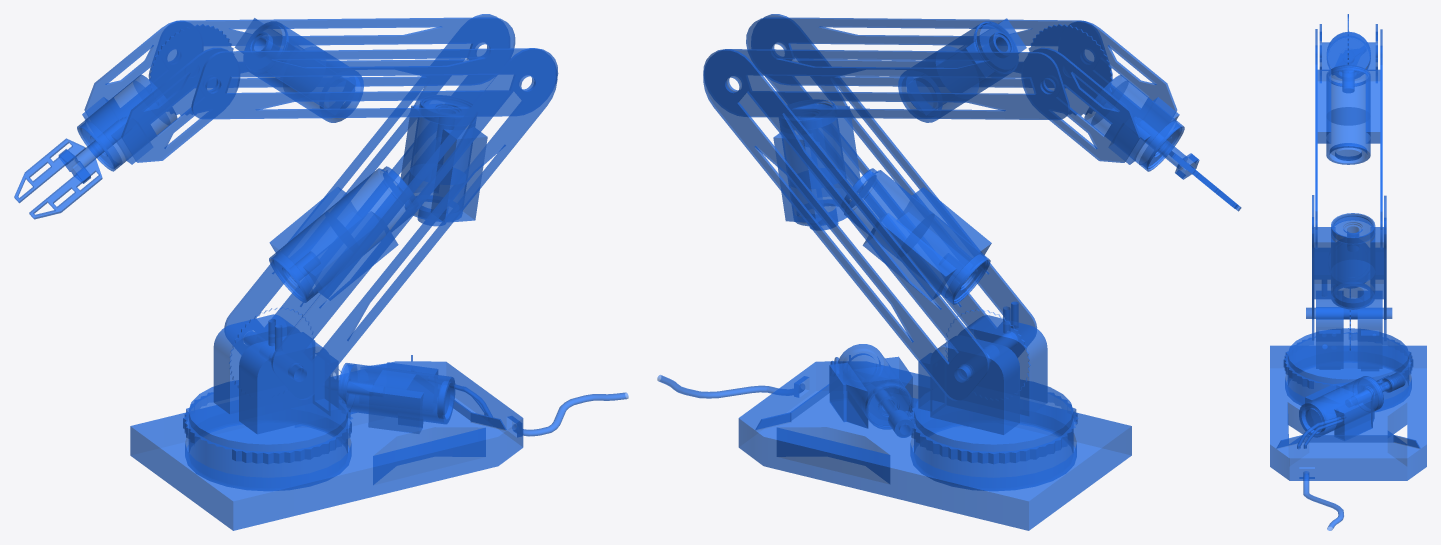
The model's file is dev.obj.
3 renders of one model, left to right at view 1: azimuth 30°, elevation 25°; view 2: azimuth 150°, elevation 25°; view 3: azimuth 270°, elevation 25°, orthographic. The views are drawn at different scales.
Visible parts, largest first — view 1: Bovenarm_001, Voet_001, Onderarm_001, Draaivoet_001, Component_1_001, Layer0_001, Component_5_001, Component_3_001, Component_2_001, Component_4_001; view 2: Bovenarm_001, Voet_001, Onderarm_001, Draaivoet_001, Component_1_001, Layer0_001, Component_5_001, Component_4_001; view 3: Voet_001, Draaivoet_001, Onderarm_001, Bovenarm_001, Layer0_001, Component_1_001.
Boxes of the visible parts, left/top/right/bottom form: Bovenarm_001: left=224, top=14, right=557, bottom=399; Voet_001: left=130, top=355, right=628, bottom=530; Onderarm_001: left=148, top=17, right=558, bottom=122; Draaivoet_001: left=183, top=307, right=352, bottom=464; Component_1_001: left=77, top=20, right=240, bottom=171; Layer0_001: left=130, top=404, right=351, bottom=530; Component_5_001: left=149, top=24, right=233, bottom=115; Component_3_001: left=29, top=158, right=102, bottom=219; Component_2_001: left=14, top=138, right=85, bottom=203; Component_4_001: left=58, top=116, right=127, bottom=183; Bovenarm_001: left=703, top=14, right=1037, bottom=401; Voet_001: left=657, top=344, right=1131, bottom=530; Onderarm_001: left=703, top=17, right=1112, bottom=122; Draaivoet_001: left=888, top=301, right=1078, bottom=464; Component_1_001: left=1021, top=21, right=1184, bottom=171; Layer0_001: left=910, top=404, right=1131, bottom=530; Component_5_001: left=1028, top=24, right=1112, bottom=115; Component_4_001: left=1134, top=116, right=1199, bottom=179; Voet_001: left=1270, top=345, right=1426, bottom=530; Draaivoet_001: left=1283, top=280, right=1413, bottom=410; Onderarm_001: left=1315, top=29, right=1382, bottom=249; Bovenarm_001: left=1312, top=195, right=1386, bottom=341; Layer0_001: left=1270, top=341, right=1426, bottom=411; Component_1_001: left=1319, top=24, right=1377, bottom=82.
Bounding box in the file's own units: 324 × 244 × 97.22.
